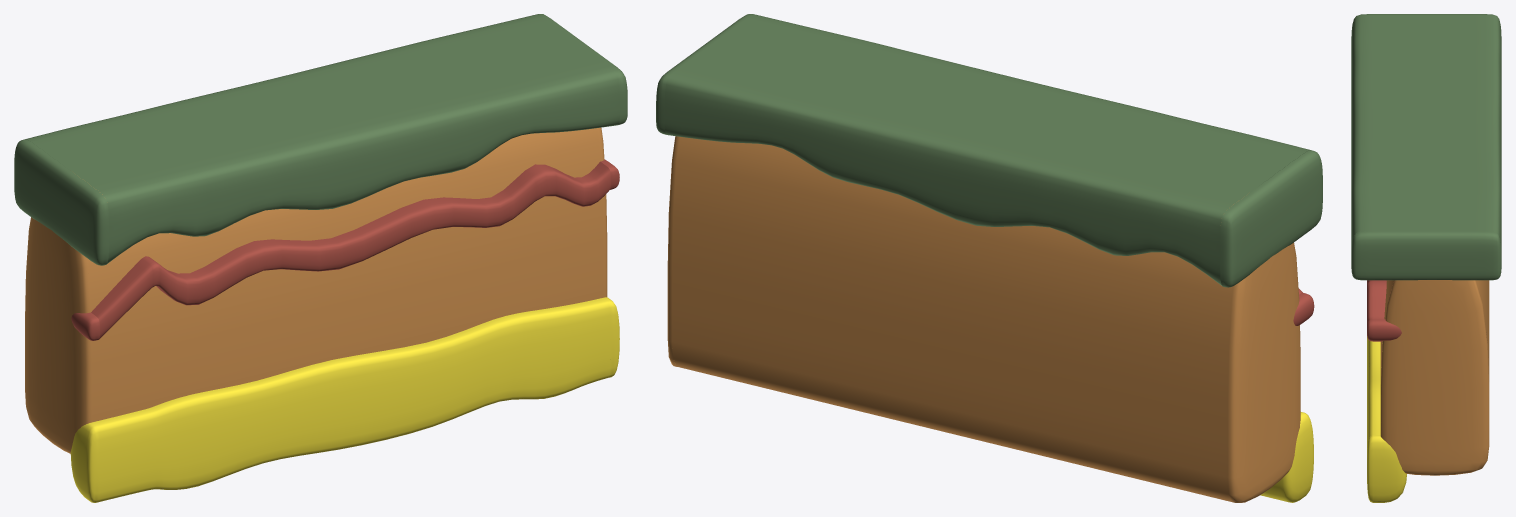
Rendered from Terrain2.fbx.
3 views of the same model, side by side, from view 1: azimuth 30°, elevation 25°; view 2: azimuth 150°, elevation 25°; view 3: azimuth 270°, elevation 25° (orthographic). The views are drawn at different scales.
Visible parts, largest first — view 1: terrain2_top, terrain2_Middle, terrain2_Bottom, terrain2_slot, terrain2_Middle_L, terrain2_top_L, terrain2_L, terrain2_top_R, terrain2_Middle_R; view 2: terrain2_Middle, terrain2_top, terrain2_Middle_L, terrain2_top_L, terrain2_L, terrain2_Middle_R, terrain2_top_R; view 3: terrain2_top, terrain2_Middle_R, terrain2_top_R, terrain2_Bottom_R, terrain2_Bottom, terrain2_Middle, terrain2_slot, terrain2_slot_R, terrain2_top_L.
Boxes of the visible parts, <box> form: terrain2_top: <box>25,14,619,263</box>; terrain2_Middle: <box>87,128,602,422</box>; terrain2_Bottom: <box>92,298,610,502</box>; terrain2_slot: <box>91,161,610,339</box>; terrain2_Middle_L: <box>25,217,91,453</box>; terrain2_top_L: <box>14,139,108,265</box>; terrain2_L: <box>70,422,100,502</box>; terrain2_top_R: <box>536,14,627,124</box>; terrain2_Middle_R: <box>597,127,607,297</box>; terrain2_Middle: <box>672,137,1233,501</box>; terrain2_top: <box>664,14,1310,285</box>; terrain2_Middle_L: <box>1227,242,1300,502</box>; terrain2_top_L: <box>1220,150,1322,287</box>; terrain2_L: <box>1279,412,1313,502</box>; terrain2_Middle_R: <box>667,136,679,366</box>; terrain2_top_R: <box>656,14,754,134</box>; terrain2_top: <box>1351,15,1501,251</box>; terrain2_Middle_R: <box>1380,280,1489,475</box>; terrain2_top_R: <box>1351,231,1501,280</box>; terrain2_Bottom_R: <box>1367,435,1406,502</box>; terrain2_Bottom: <box>1367,336,1380,453</box>; terrain2_Middle: <box>1380,280,1489,383</box>; terrain2_slot: <box>1367,280,1386,341</box>; terrain2_slot_R: <box>1367,319,1401,340</box>; terrain2_top_L: <box>1351,14,1501,37</box>.
Bounding box in the file's own units: 49 × 28.26 × 13.83.
